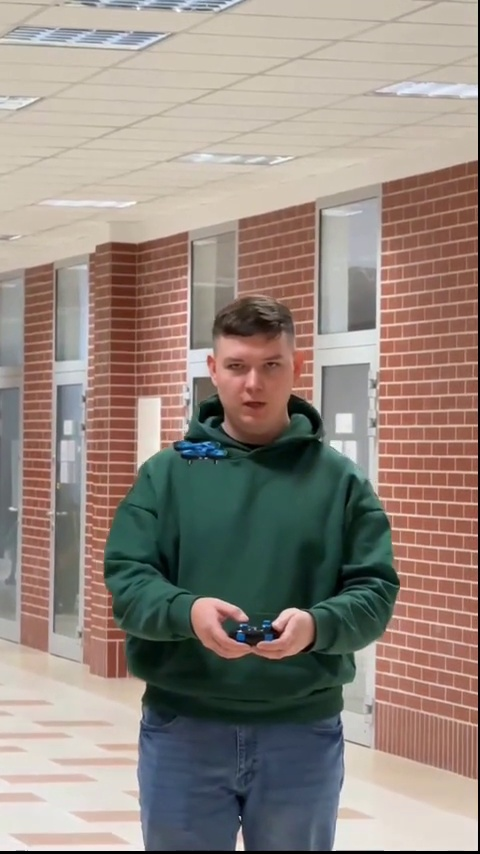drone: (174, 440, 232, 460)
no vest: (111, 290, 402, 849)
